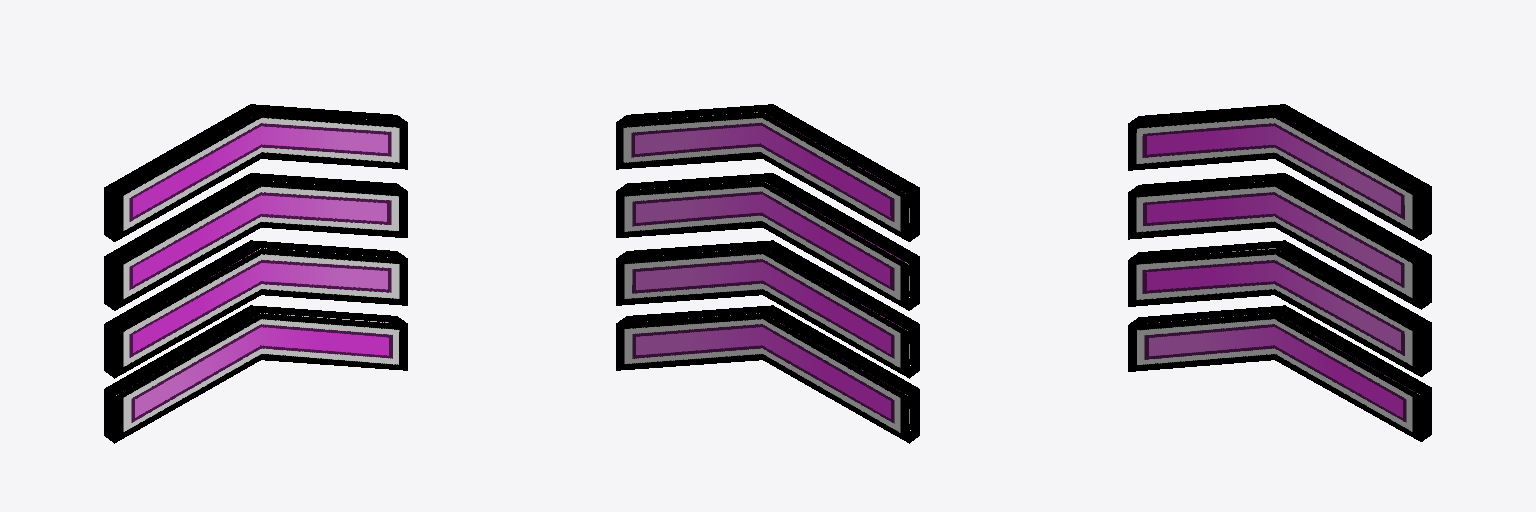
3 views of the same model, side by side, from view 1: azimuth 30°, elevation 25°; view 2: azimuth 150°, elevation 25°; view 3: azimuth 330°, elevation 25° (orthographic).
Parts seen in each view (by area): view 1: Cube; view 2: Cube; view 3: Cube.
Boxes of the visible parts, <box> form: Cube: <box>104,104,407,443</box>; Cube: <box>616,104,919,443</box>; Cube: <box>1128,104,1431,441</box>.
Size of the model in its own units: 5.44 by 5.24 by 0.3389.
1 materials, 1 textured.